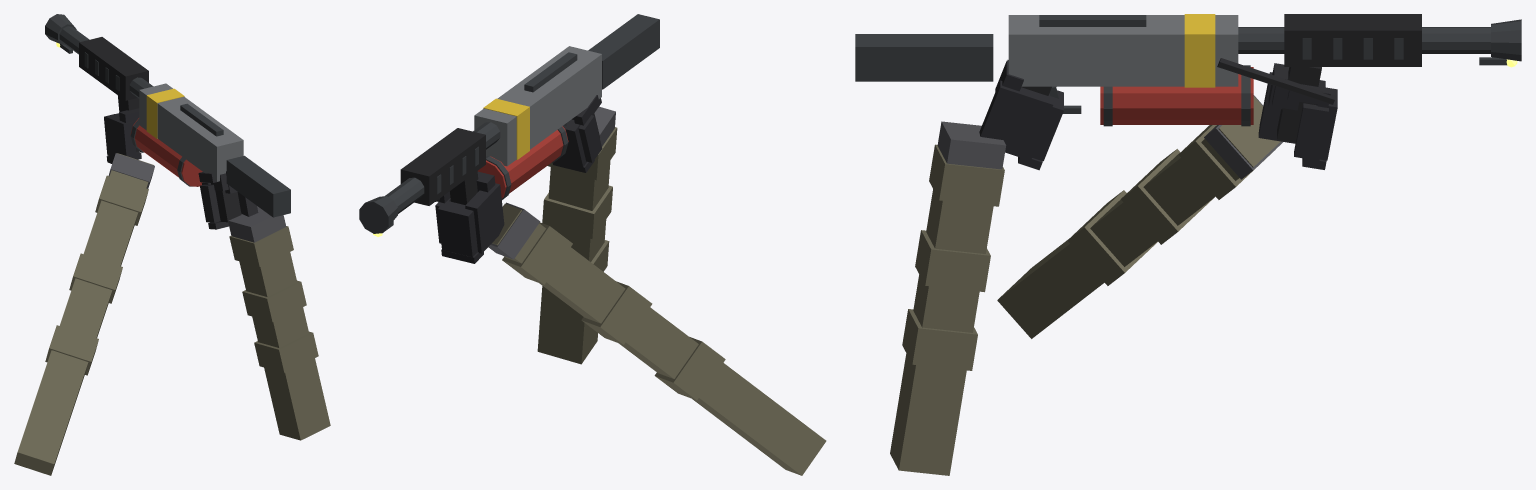
File: flamer.glb
3 renders of one model, left to right at view 1: azimuth 30°, elevation 25°; view 2: azimuth 150°, elevation 25°; view 3: azimuth 270°, elevation 25°, orthographic. The views are drawn at different scales.
Parts seen in each view (by area): view 1: GL_Forearm, GR_Forearm, G_Body, G_Stock, G_Shield, GR_Wrap1, GR_Wrap2, GR_Wrap0, G_Tank, GL_Wrap2, GL_Wrap1, GL_Wrap0 (+9 smaller); view 2: GL_Forearm, G_Body, GR_Forearm, G_Shield, G_Stock, GR_Wrap1, G_Tank, GL_Wrap1, GL_Wrap2, GL_Wrap0, GL_Fingers, GL_Palm (+10 smaller); view 3: G_Body, GR_Forearm, GL_Forearm, G_Stock, G_Shield, G_Tank, GR_Palm, G_Nozzle, GR_Wrap1, GR_Wrap2, GR_Wrap0, GR_Bracelet (+12 smaller).
Boxes of the visible parts, x1,y1,x2,y2 form: GL_Forearm: [14, 153, 153, 475]; GR_Forearm: [239, 252, 330, 440]; G_Body: [139, 83, 243, 181]; G_Stock: [226, 155, 290, 217]; G_Shield: [79, 37, 148, 100]; GR_Wrap1: [242, 280, 306, 322]; GR_Wrap2: [254, 331, 318, 373]; GR_Wrap0: [229, 226, 293, 266]; G_Tank: [130, 118, 202, 186]; GL_Wrap2: [45, 325, 98, 375]; GL_Wrap1: [69, 253, 122, 303]; GL_Wrap0: [95, 175, 148, 225]; GL_Forearm: [492, 203, 826, 475]; G_Body: [474, 46, 601, 166]; GR_Forearm: [537, 161, 610, 364]; G_Shield: [400, 128, 485, 205]; G_Stock: [588, 14, 659, 89]; GR_Wrap1: [542, 185, 612, 239]; G_Tank: [477, 126, 568, 198]; GL_Wrap1: [581, 281, 652, 344]; GL_Wrap2: [654, 337, 725, 400]; GL_Wrap0: [502, 222, 572, 284]; GL_Fingers: [437, 201, 477, 257]; GL_Palm: [465, 183, 504, 253]; G_Body: [1008, 15, 1238, 86]; GR_Forearm: [890, 189, 993, 475]; GL_Forearm: [997, 96, 1280, 338]; G_Stock: [855, 34, 993, 81]; G_Shield: [1284, 14, 1421, 66]; G_Tank: [1100, 67, 1253, 124]; GR_Palm: [979, 80, 1053, 160]; G_Nozzle: [1238, 27, 1490, 53]; GR_Wrap1: [915, 230, 990, 292]; GR_Wrap2: [902, 309, 977, 370]; GR_Wrap0: [929, 144, 1004, 206]; GR_Bracelet: [937, 121, 1006, 169].
Size of the model in its own units: 0.5987 by 0.642 by 0.87.
